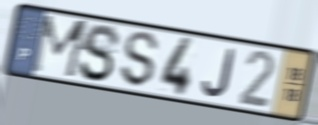2: (235, 49, 276, 110)
4: (159, 34, 194, 99)
J: (200, 46, 237, 99)
M: (28, 13, 92, 81)
S: (77, 22, 123, 85), (119, 30, 160, 90)
